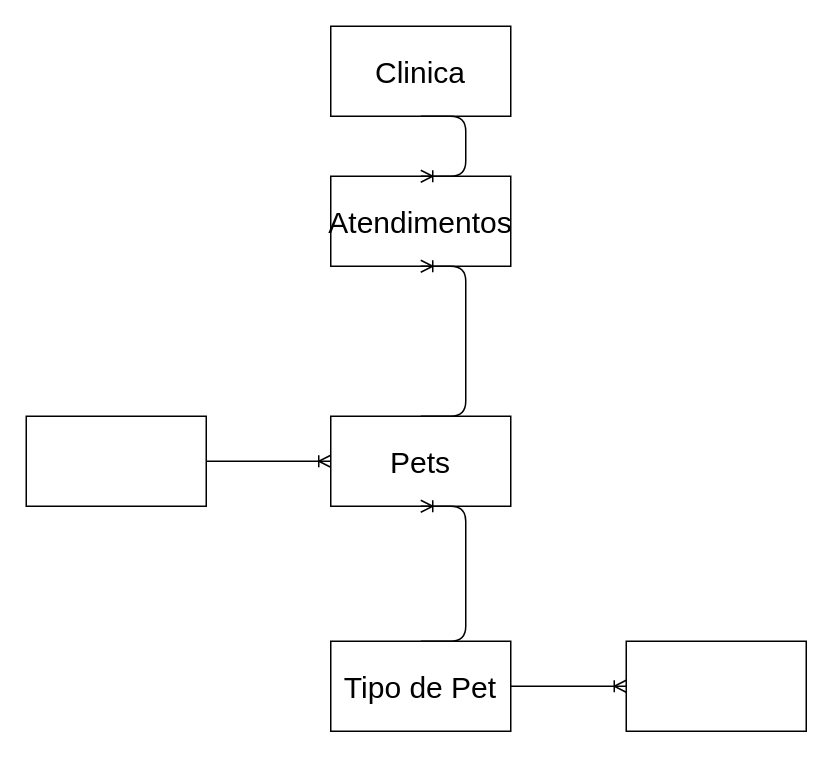
The diagram is 833 pixels wide and 758 high, and some of its shapes have lost their labels. Each missing label, with the centre of its shape:
Donos: (115,460)
Raça: (715,685)
